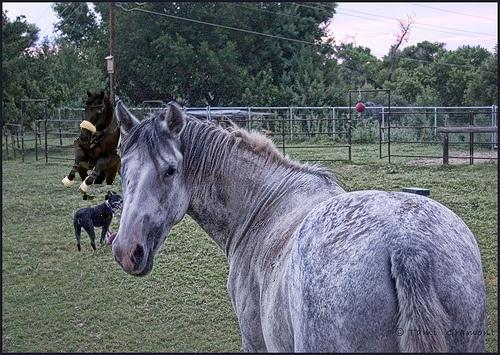tampered: (63, 91, 121, 220)
